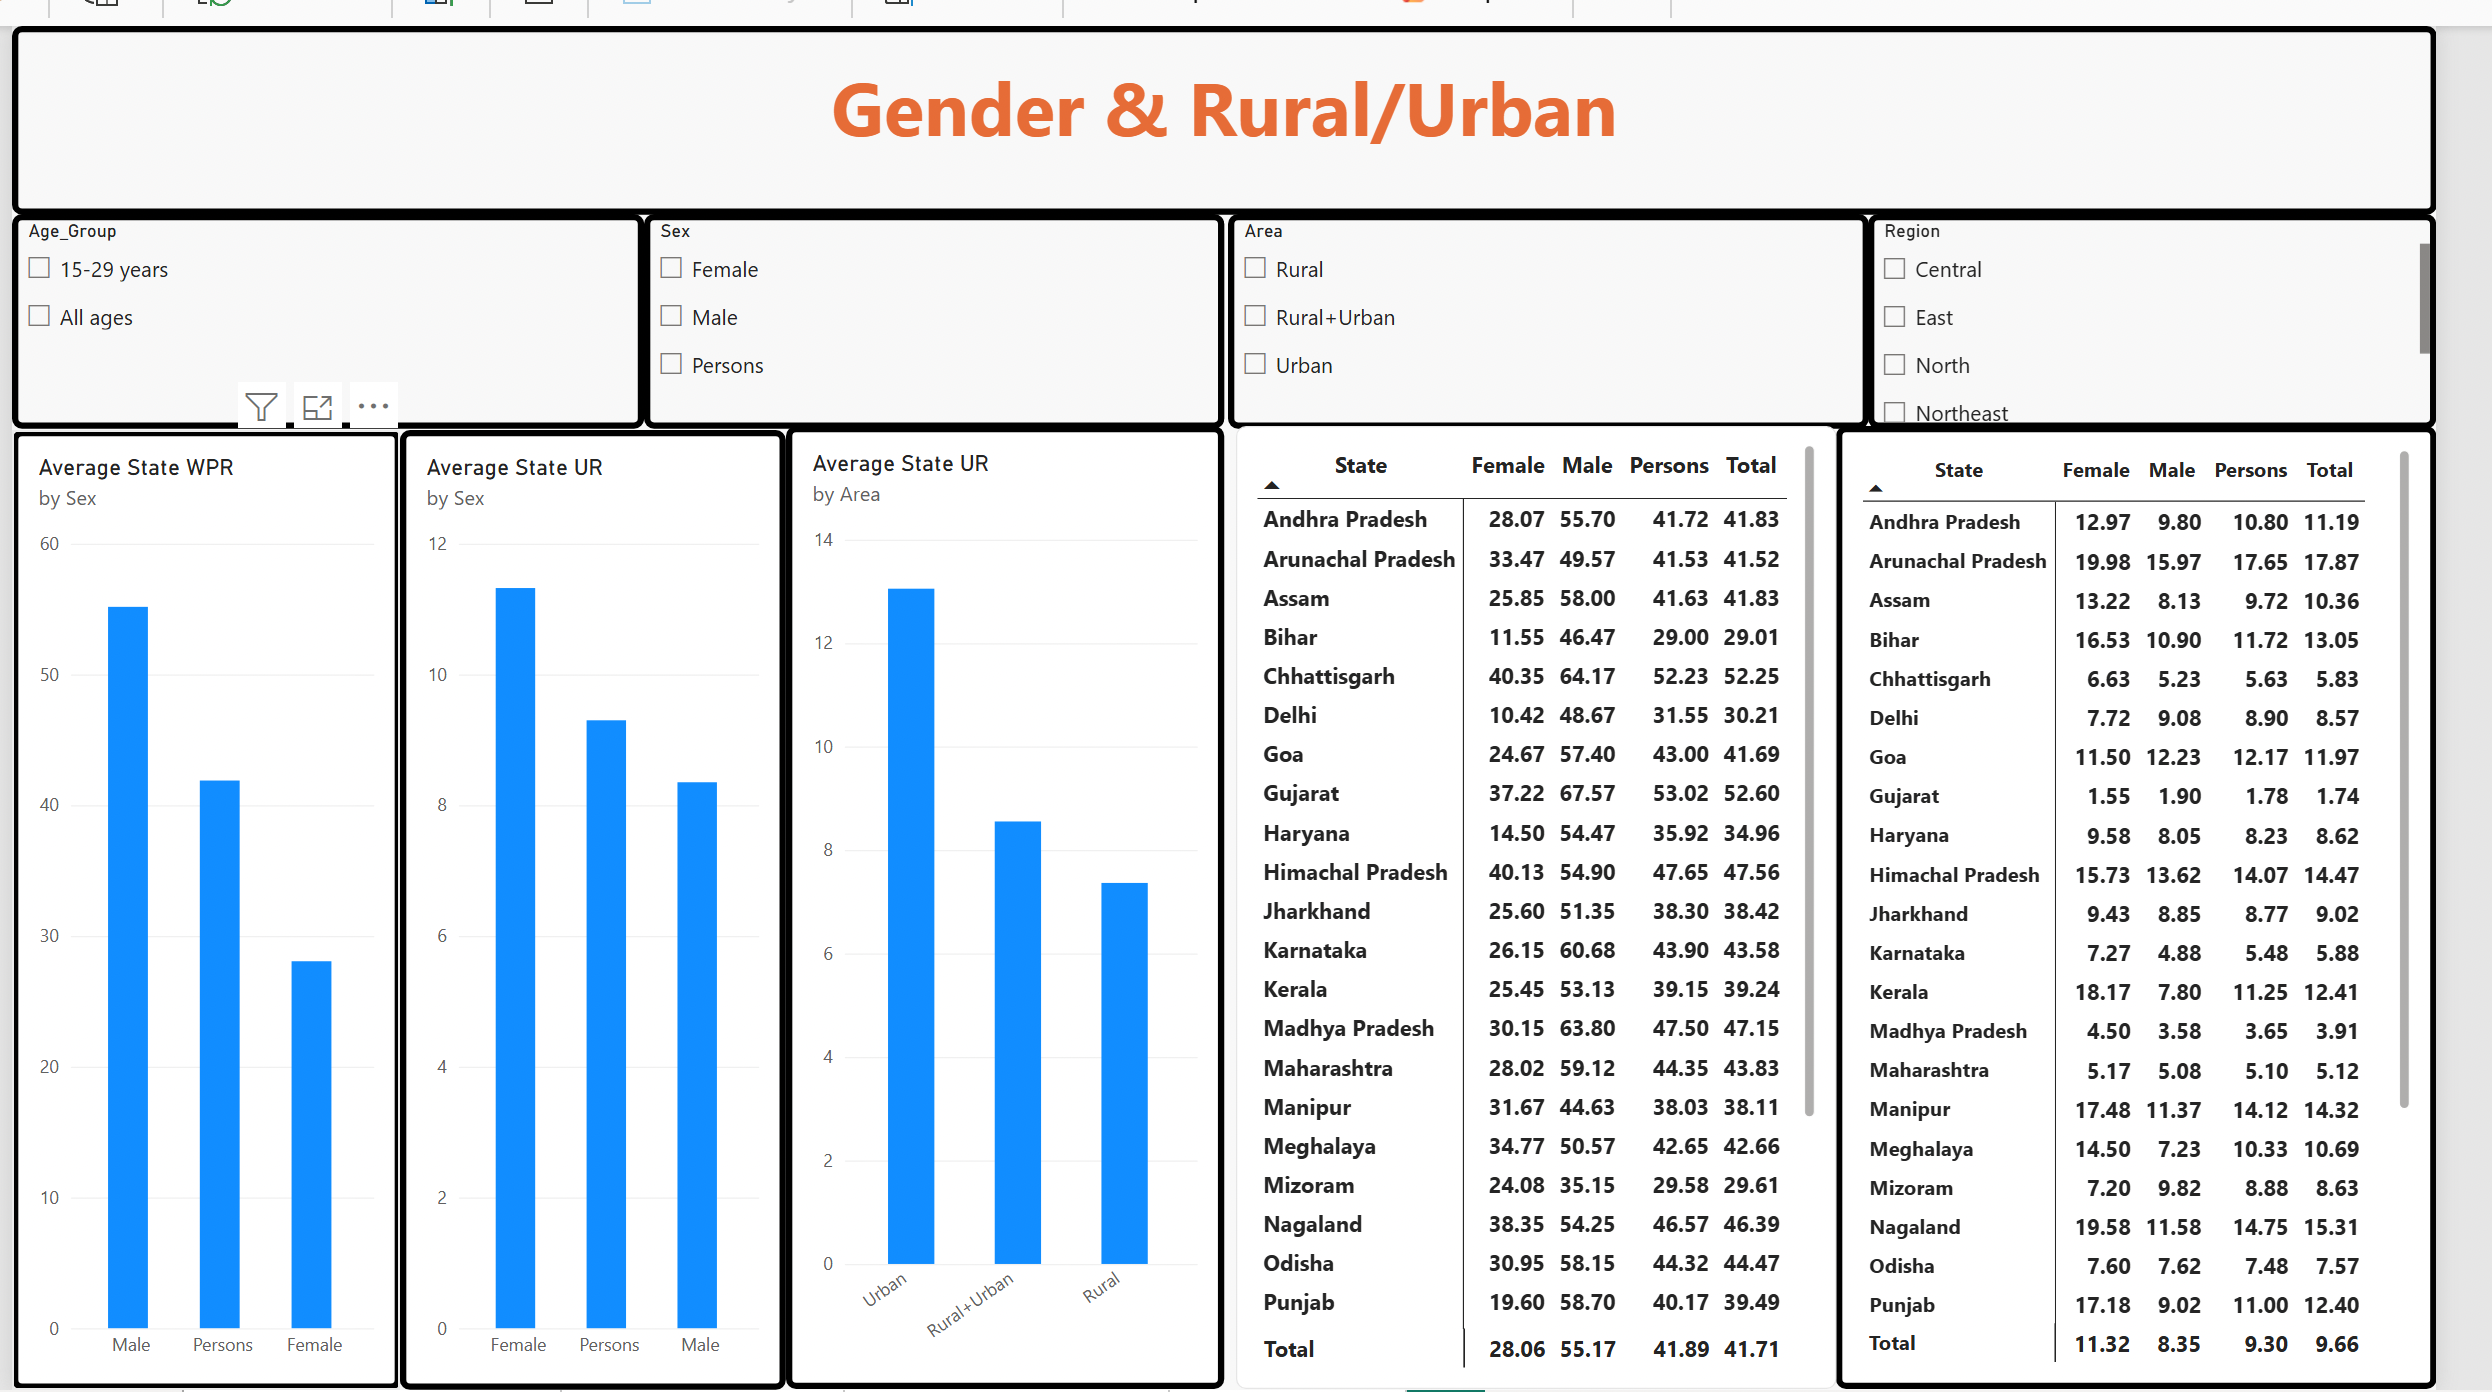

The dashboard page shown, as its layout file describes it:
{"tool":"powerbi","page":{"name":"Gender & Rural/Urban","canvas":[1920,1080],"ordinal":2},"visuals":[{"type":"slicer","fields":{"Values":["State_Labour_2025.Age_Group"]},"box":[0,149.3,500.7,170],"z":0},{"type":"clusteredColumnChart","fields":{"Category":["State_Labour_2025.Sex"],"Y":["State_Labour_2025.Average State WPR"]},"box":[0,319.2,307.8,760.2],"z":1000},{"type":"slicer","fields":{"Values":["State_Labour_2025.Sex"]},"box":[500.7,149.3,459.3,170],"z":2000},{"type":"clusteredColumnChart","fields":{"Category":["State_Labour_2025.Sex"],"Y":["State_Labour_2025.Average State UR"]},"box":[307.8,319.2,305.5,760.2],"z":3000},{"type":"clusteredColumnChart","fields":{"Category":["State_Labour_2025.Area"],"Y":["State_Labour_2025.Average State UR"]},"box":[613.2,316.9,346.8,762.5],"z":4000},{"type":"slicer","fields":{"Values":["State_Labour_2025.Area"]},"box":[962.3,149.3,507.6,170],"z":5000},{"type":"slicer","fields":{"Values":["State_Labour_2025.Region"]},"box":[1469.9,149.3,450.1,170],"z":6000},{"type":"textbox","box":[0,0,1920,149.3],"z":7000},{"type":"pivotTable","fields":{"Rows":["State_Labour_2025.State"],"Columns":["State_Labour_2025.Sex"],"Values":["State_Labour_2025.Average State UR"]},"box":[1444.6,316.9,475.4,762.5],"z":8000},{"type":"pivotTable","fields":{"Rows":["State_Labour_2025.State"],"Columns":["State_Labour_2025.Sex"],"Values":["State_Labour_2025.Average State WPR"]},"box":[969.2,316.9,475.4,762.5],"z":9000}]}

Visuals, with their boxes in screenshot pixels (x1, y1, x2, y2):
slicer - State_Labour_2025.Age_Group: 0, 209, 635, 424
clusteredColumnChart - State_Labour_2025.Sex x State_Labour_2025.Average State WPR: 0, 424, 390, 1388
slicer - State_Labour_2025.Sex: 635, 209, 1217, 424
clusteredColumnChart - State_Labour_2025.Sex x State_Labour_2025.Average State UR: 390, 424, 778, 1388
clusteredColumnChart - State_Labour_2025.Area x State_Labour_2025.Average State UR: 778, 421, 1217, 1388
slicer - State_Labour_2025.Area: 1220, 209, 1864, 424
slicer - State_Labour_2025.Region: 1864, 209, 2435, 424
textbox: 0, 19, 2435, 209
pivotTable - State_Labour_2025.State x State_Labour_2025.Sex: 1832, 421, 2435, 1388
pivotTable - State_Labour_2025.State x State_Labour_2025.Sex: 1229, 421, 1832, 1388
